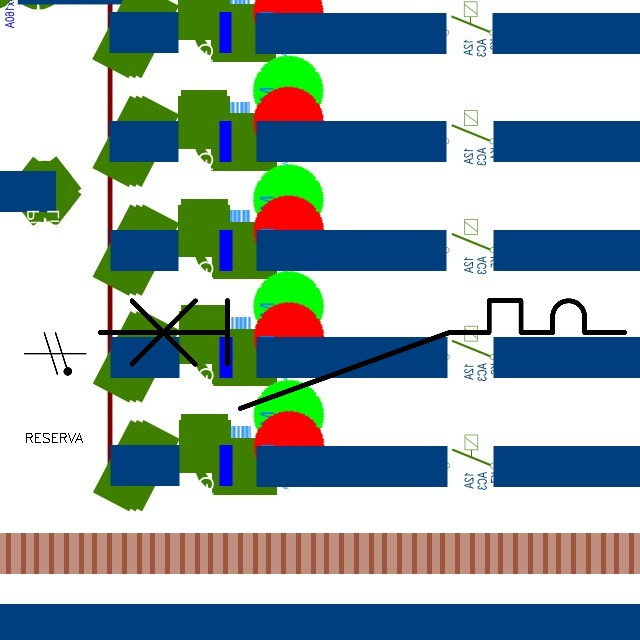interruptor_termomagnetico: (86, 287, 637, 422)
